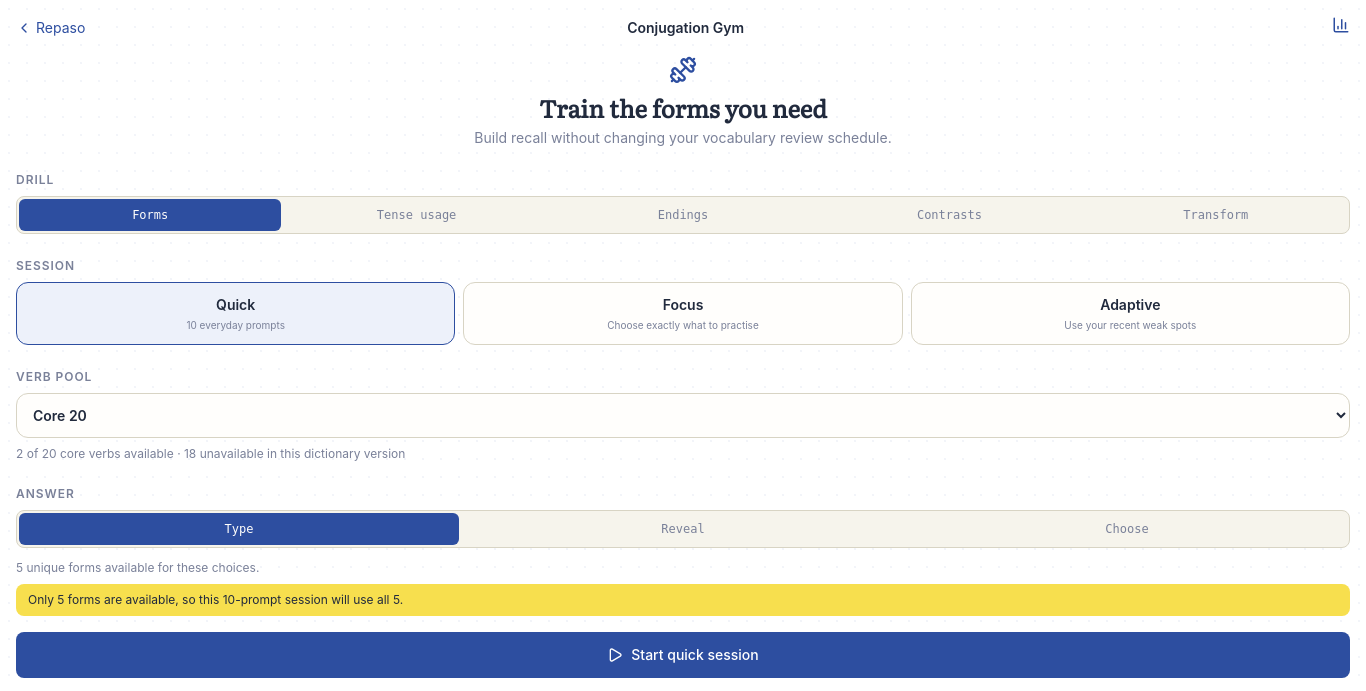
Test case: Conjugation Gym setup › resets Saved refinement before a Performance-to-Focus handoff
Select "Saved" in the dropdown named "Verb pool" at (683, 415), box left=16, top=392, right=1350, bottom=438
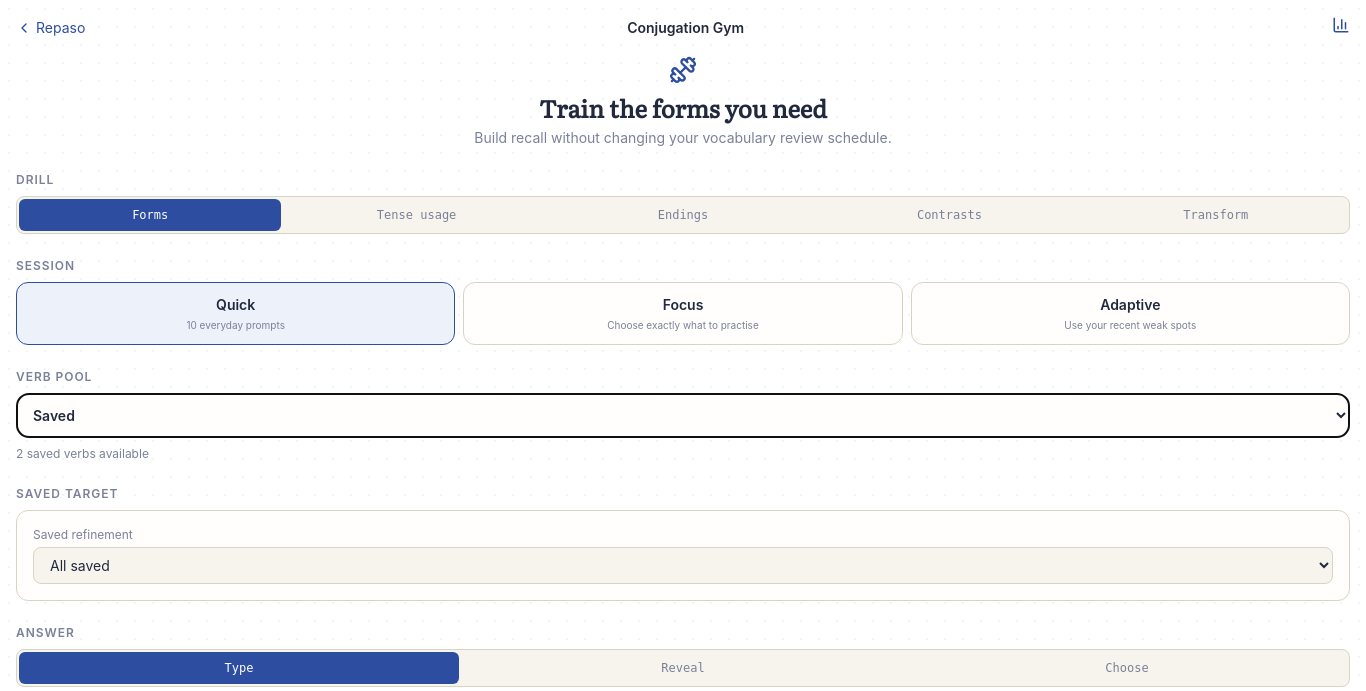
Select "One exact tag" in the dropdown labelled "Saved refinement" at (683, 565), box left=33, top=546, right=1333, bottom=584
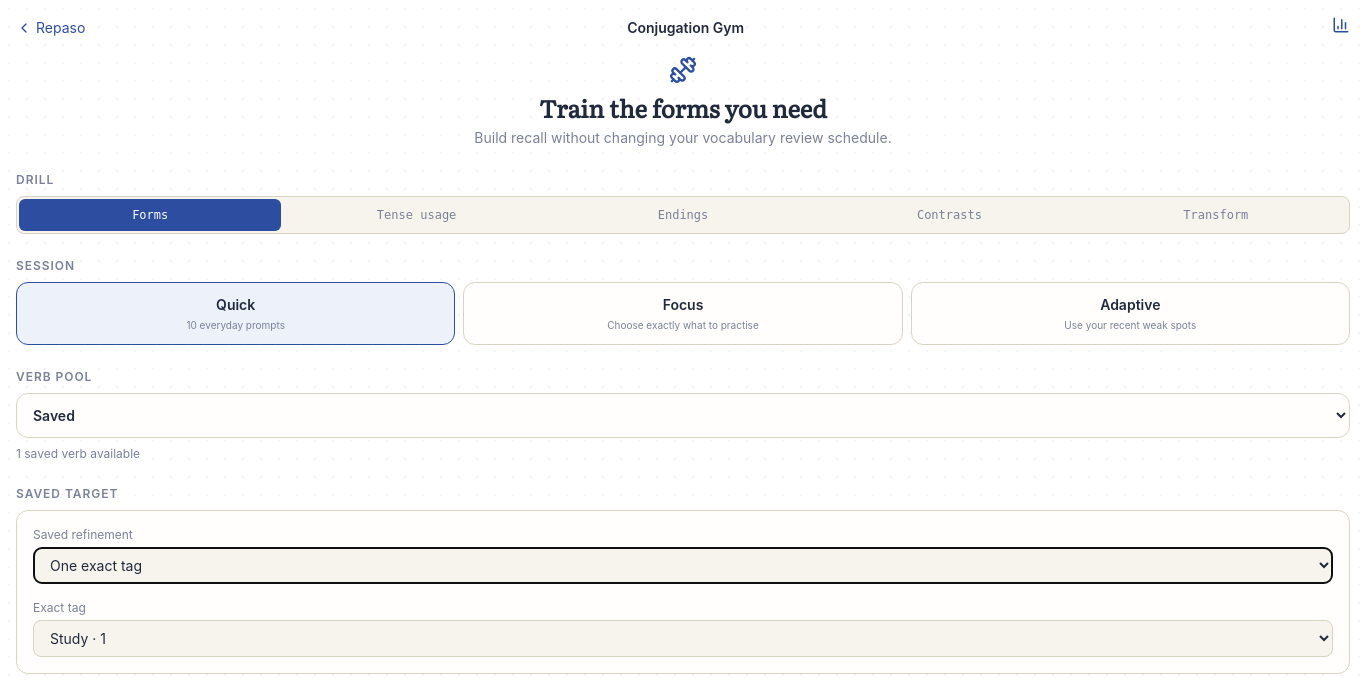
Select "Travel · 1" in the dropdown labelled "Exact tag" at (683, 638), box left=33, top=620, right=1333, bottom=656
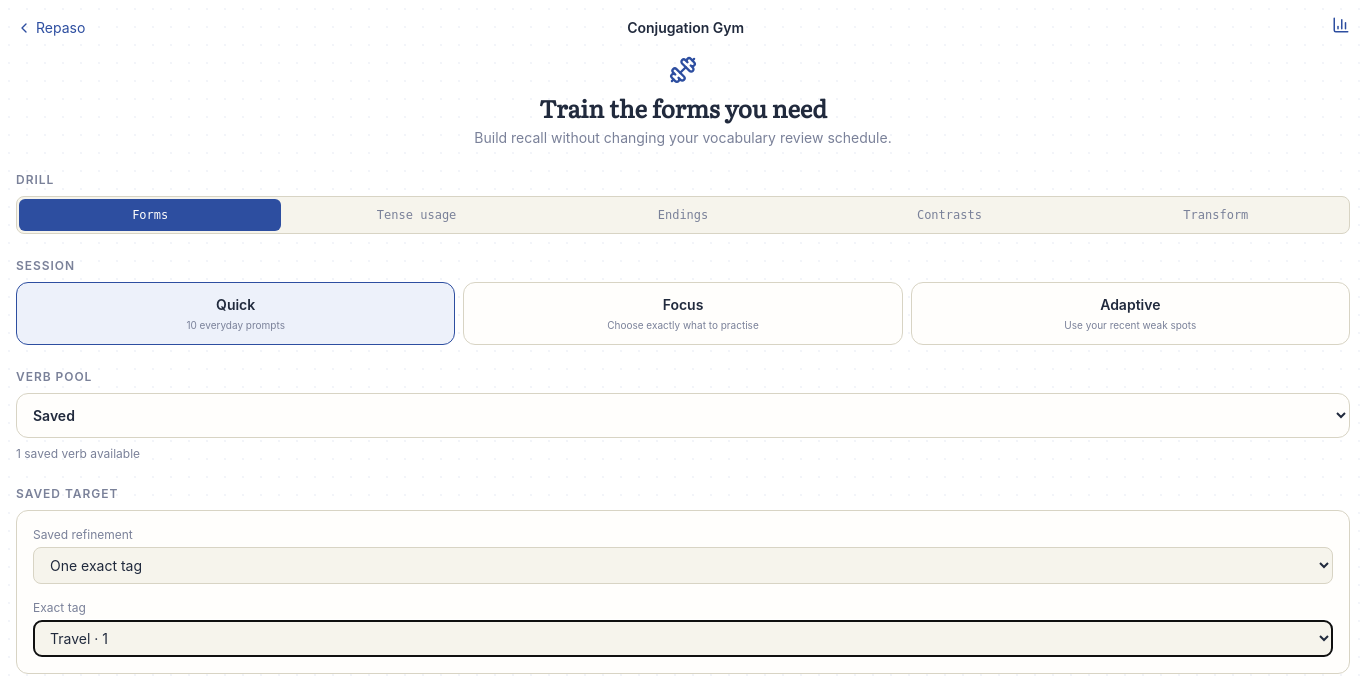
Check: the text "1 saved verb available" is shown, box left=16, top=446, right=140, bottom=460
Click the button named "View conjugation performance" at (1341, 25), box left=1332, top=16, right=1350, bottom=34
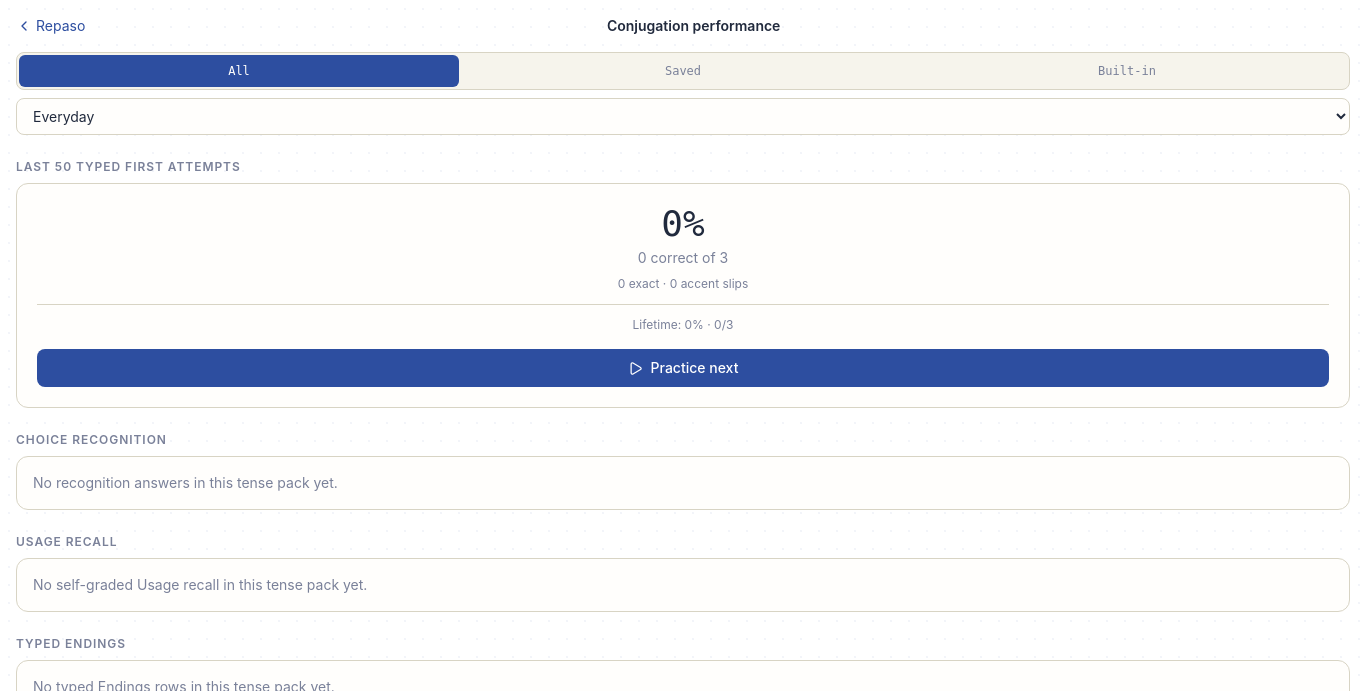
Click the button "Practice next" at (683, 368), box left=37, top=349, right=1329, bottom=387
(page scrolled)
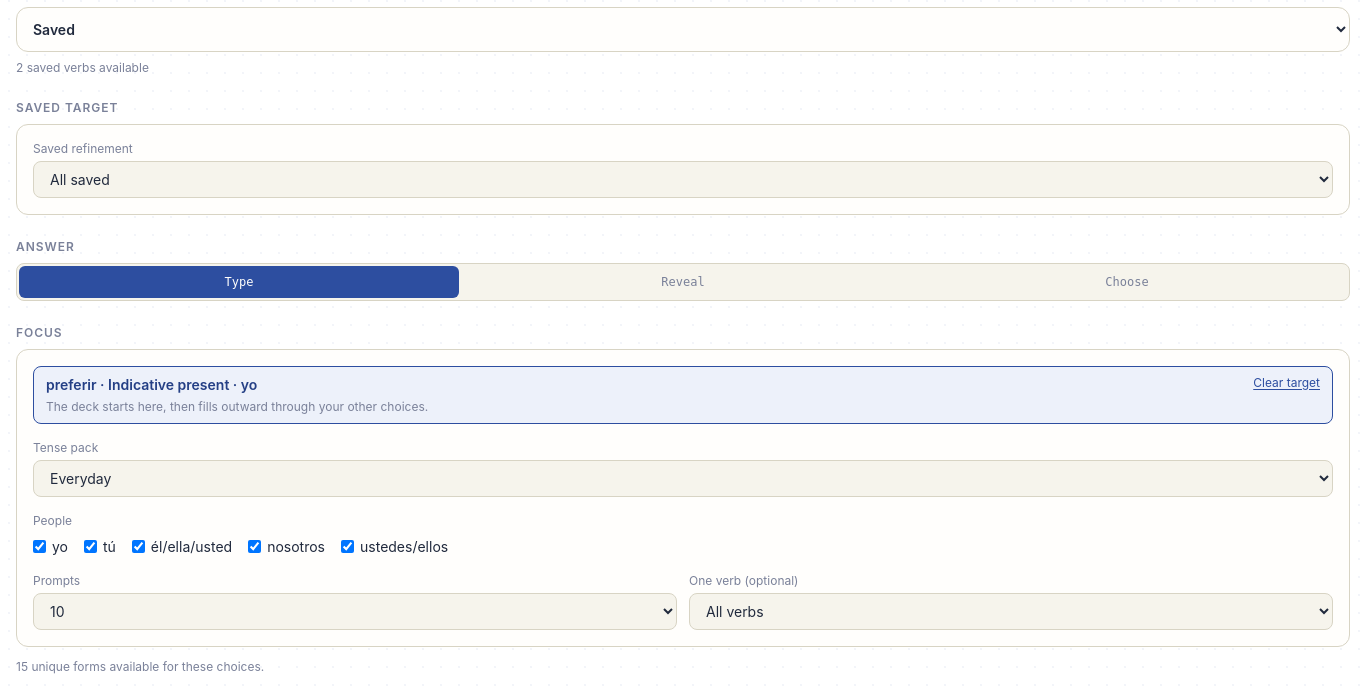
Check: the dropdown named "Verb pool" shows "Saved", box left=16, top=6, right=1350, bottom=52
Check: the dropdown labelled "Saved refinement" shows "All saved", box left=33, top=160, right=1333, bottom=198
Check: the text "2 saved verbs available" is shown, box left=16, top=60, right=149, bottom=74
